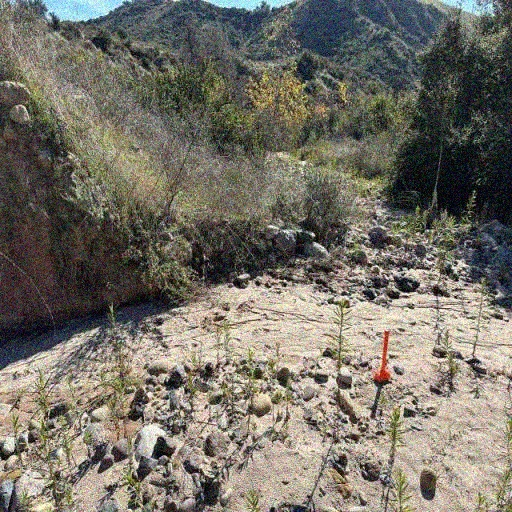mallet: (375, 330, 391, 382)
